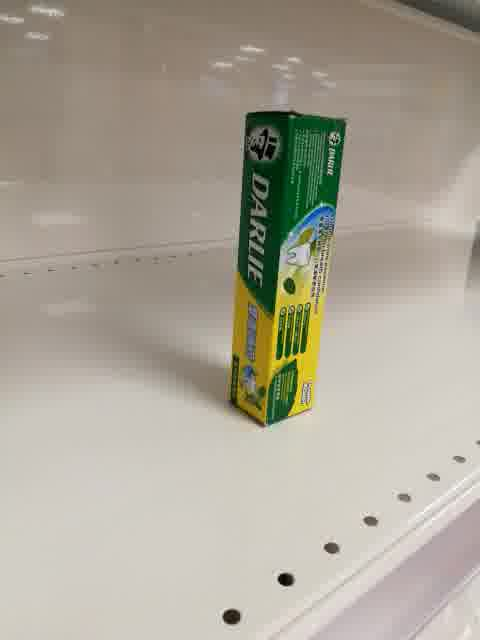toothpaste: (227, 111, 348, 429)
